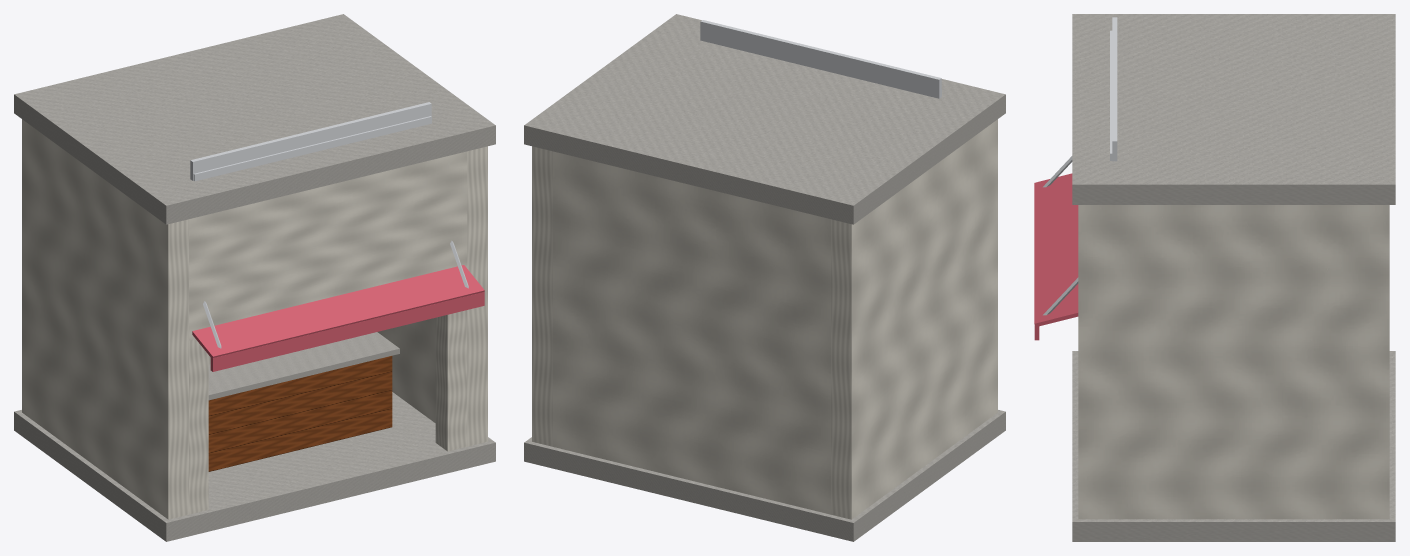
The model's file is shopfront-open.glb.
3 renders of one model, left to right at view 1: azimuth 30°, elevation 25°; view 2: azimuth 150°, elevation 25°; view 3: azimuth 270°, elevation 25°, orthographic. The views are drawn at different scales.
Visible parts, largest first — view 1: shopfront-bay-open-plaster, shopfront-bay-open-stone, shopfront-bay-open-timber, shopfront-bay-open-crimson, shutter; view 2: shopfront-bay-open-plaster, shopfront-bay-open-stone, shutter; view 3: shopfront-bay-open-plaster, shopfront-bay-open-stone, shopfront-bay-open-crimson, shutter.
Boxes of the visible parts, <box> form: shopfront-bay-open-plaster: <box>22,119,487,519</box>; shopfront-bay-open-stone: <box>14,14,495,541</box>; shopfront-bay-open-timber: <box>208,356,392,471</box>; shopfront-bay-open-crimson: <box>192,265,484,371</box>; shutter: <box>190,102,431,181</box>; shopfront-bay-open-plaster: <box>532,119,997,519</box>; shopfront-bay-open-stone: <box>524,14,1005,541</box>; shutter: <box>700,20,941,98</box>; shopfront-bay-open-plaster: <box>1078,205,1389,519</box>; shopfront-bay-open-stone: <box>1072,14,1395,541</box>; shopfront-bay-open-crimson: <box>1034,173,1078,340</box>; shutter: <box>1110,17,1117,161</box>.
Bounding box in the file's own units: 4 × 4.12 × 3.58.
8 materials, 3 textured.
